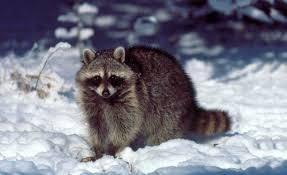raccoon: (61, 29, 249, 173)
